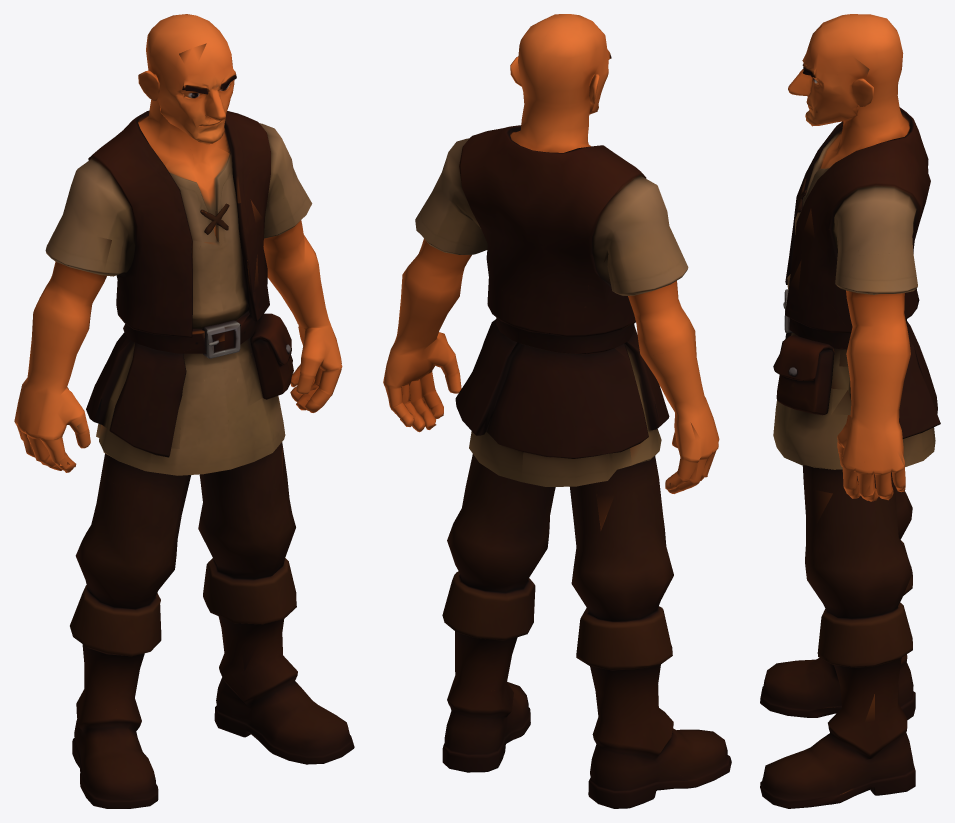
Rendered from koerper.glb.
3 renders of one model, left to right at view 1: azimuth 30°, elevation 25°; view 2: azimuth 150°, elevation 25°; view 3: azimuth 270°, elevation 25°, orthographic. The views are drawn at different scales.
Visible parts, largest first — view 1: koerper; view 2: koerper; view 3: koerper.
Part boxes in pixels (x1=…): koerper: x1=14, y1=14, x2=354, y2=808; koerper: x1=383, y1=14, x2=731, y2=808; koerper: x1=760, y1=14, x2=940, y2=808.
Size of the model in its own units: 0.8034 by 1.8 by 0.4031.
Materials: 1 (1 with a texture image).
